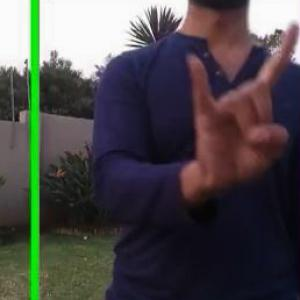takeoff-hand: (173, 14, 299, 186)
